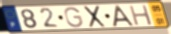2: (40, 7, 61, 30)
8: (21, 9, 39, 29)
A: (112, 5, 136, 28)
G: (64, 6, 85, 29)
H: (128, 4, 154, 27)
X: (83, 5, 107, 29)
